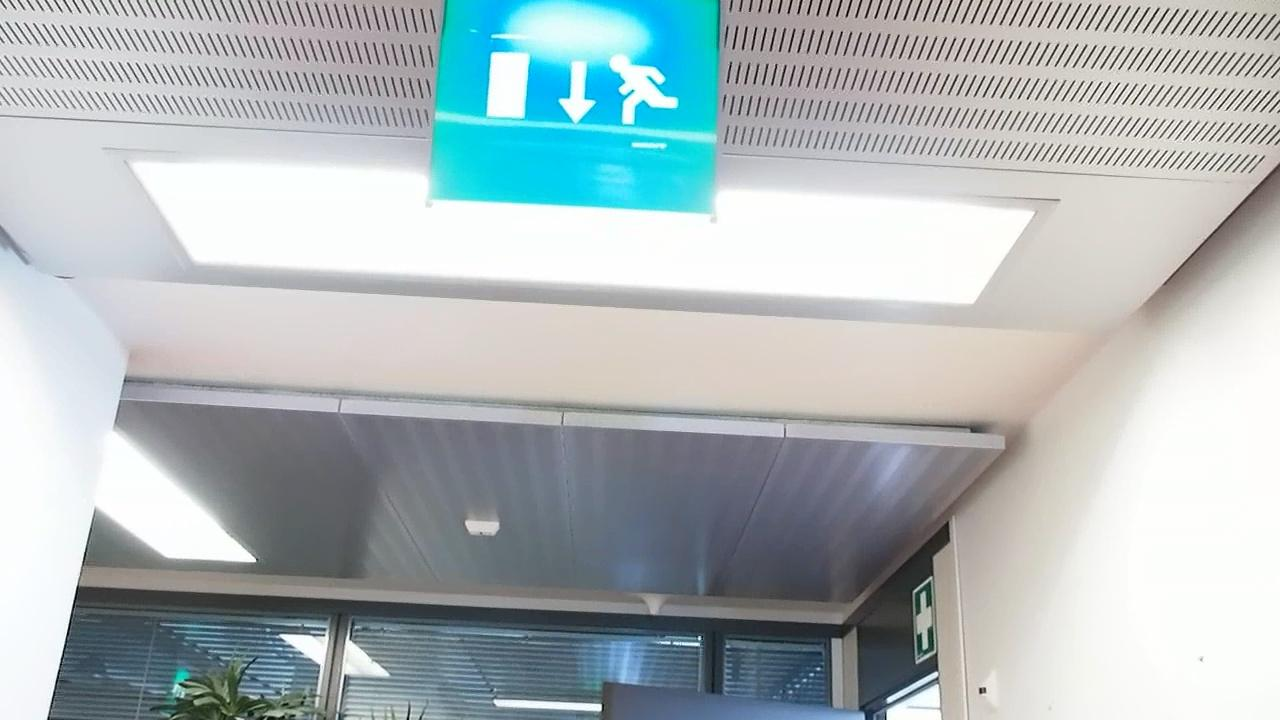exit: (427, 0, 719, 213)
